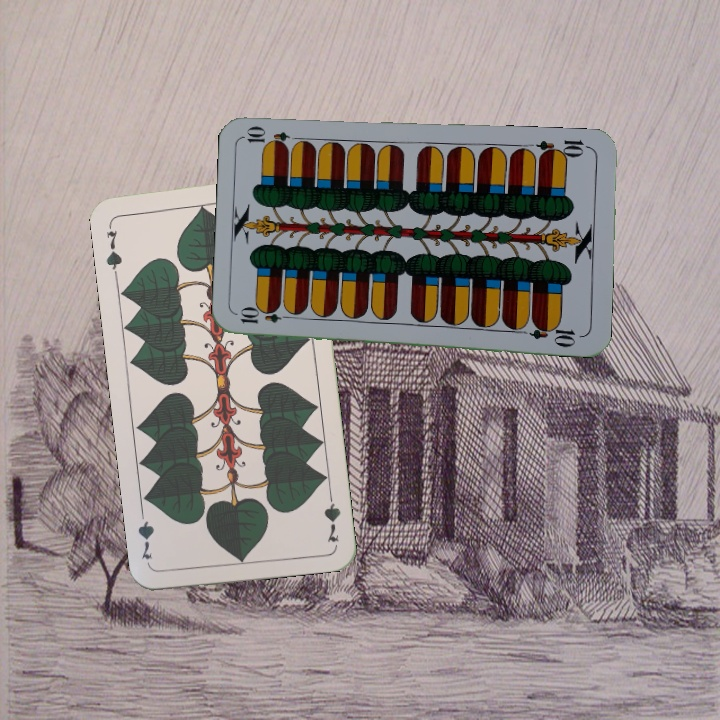E10: (533, 136, 592, 162), (236, 307, 295, 326)
G7: (320, 486, 343, 545), (102, 219, 124, 278)
